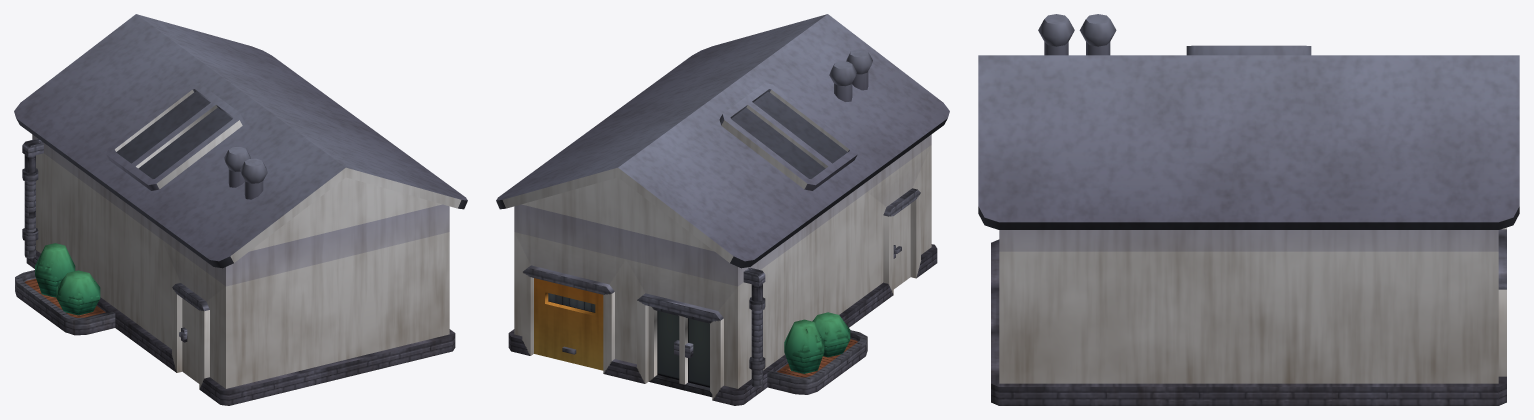
The model's file is building-i-white.glb.
The picture shows the model from 3 angles, left to right: view 1: azimuth 30°, elevation 25°; view 2: azimuth 150°, elevation 25°; view 3: azimuth 270°, elevation 25°; orthographic projection. The views are drawn at different scales.
Parts seen in each view (by area): view 1: building-i; view 2: building-i; view 3: building-i.
Part boxes in pixels (bbox=[...]): building-i: bbox=[14, 14, 467, 405]; building-i: bbox=[496, 14, 949, 405]; building-i: bbox=[978, 14, 1519, 405].
Size of the model in its own units: 1.03 by 0.7335 by 1.3.
Materials: 1 (1 with a texture image).
